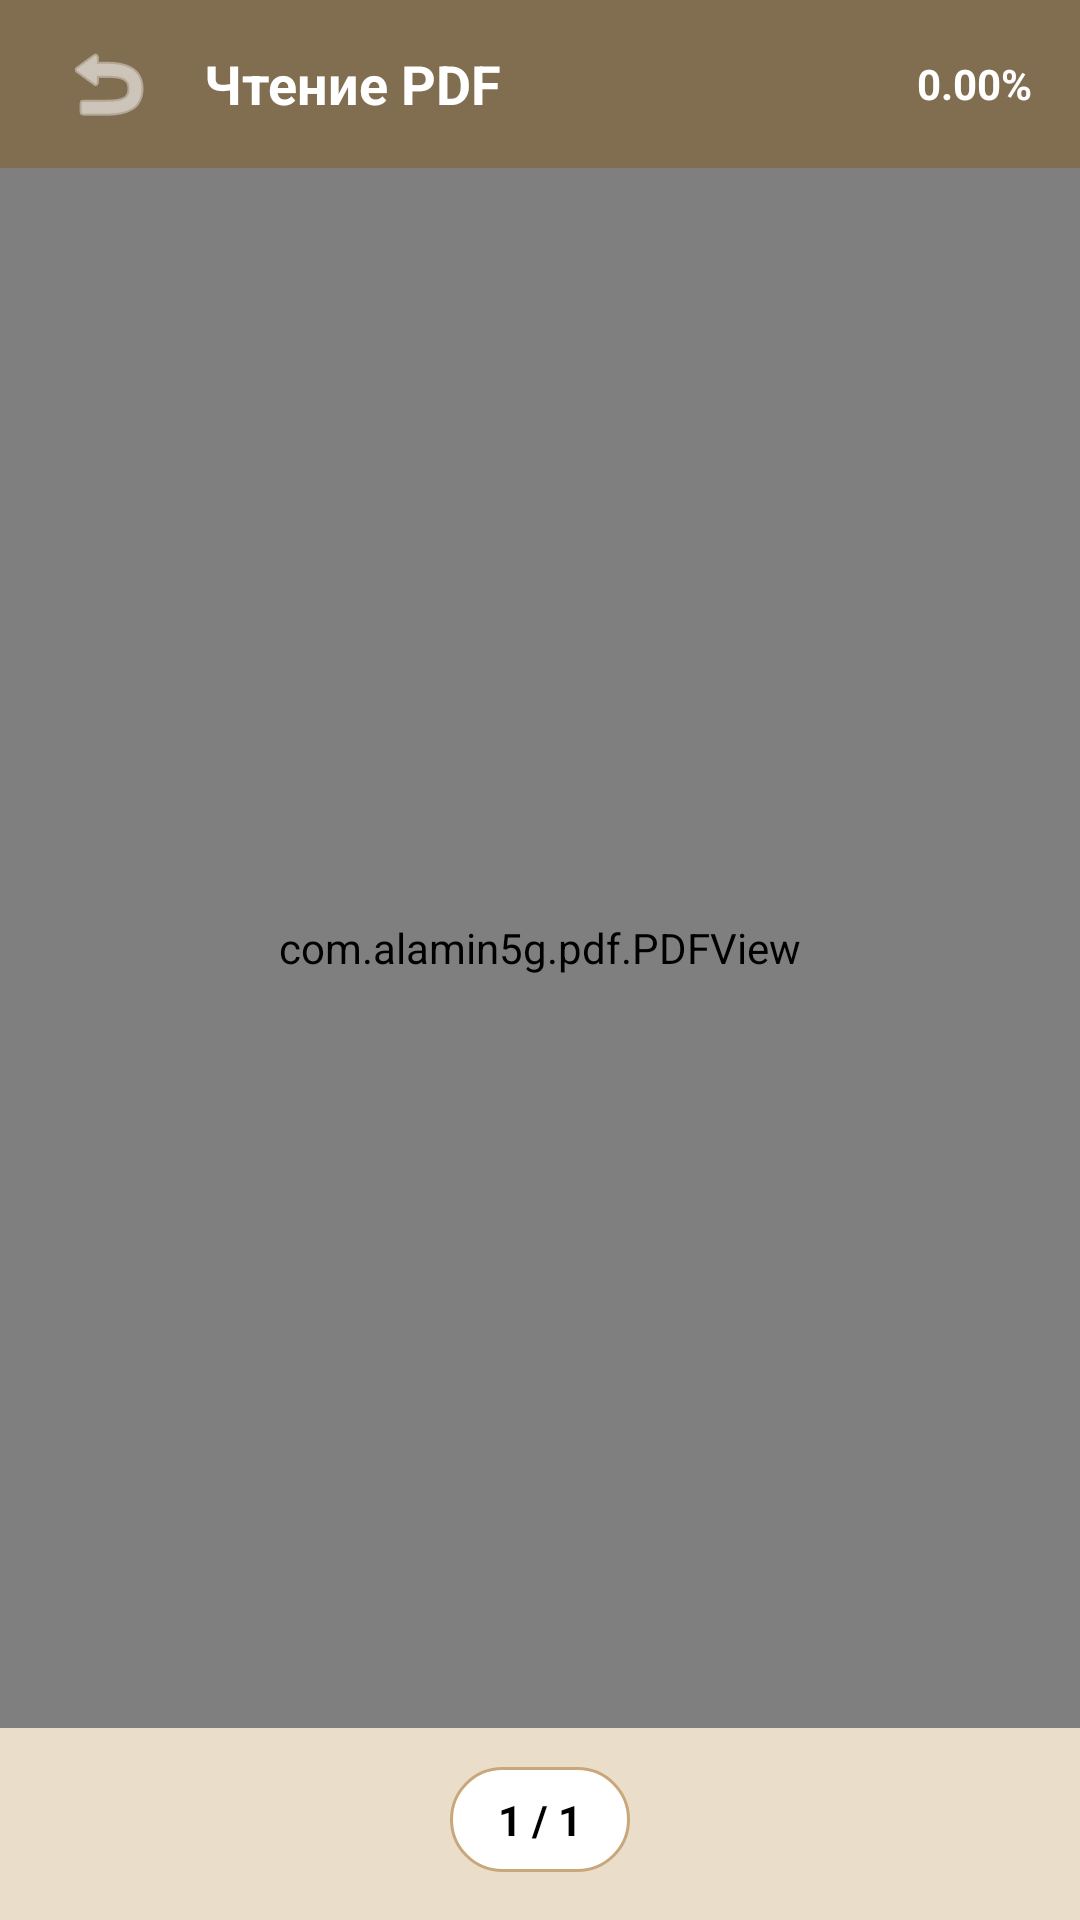

Icon click points for this 1080×1920 phone screenshot, format point (x, y):
Назад: point (109, 84)
